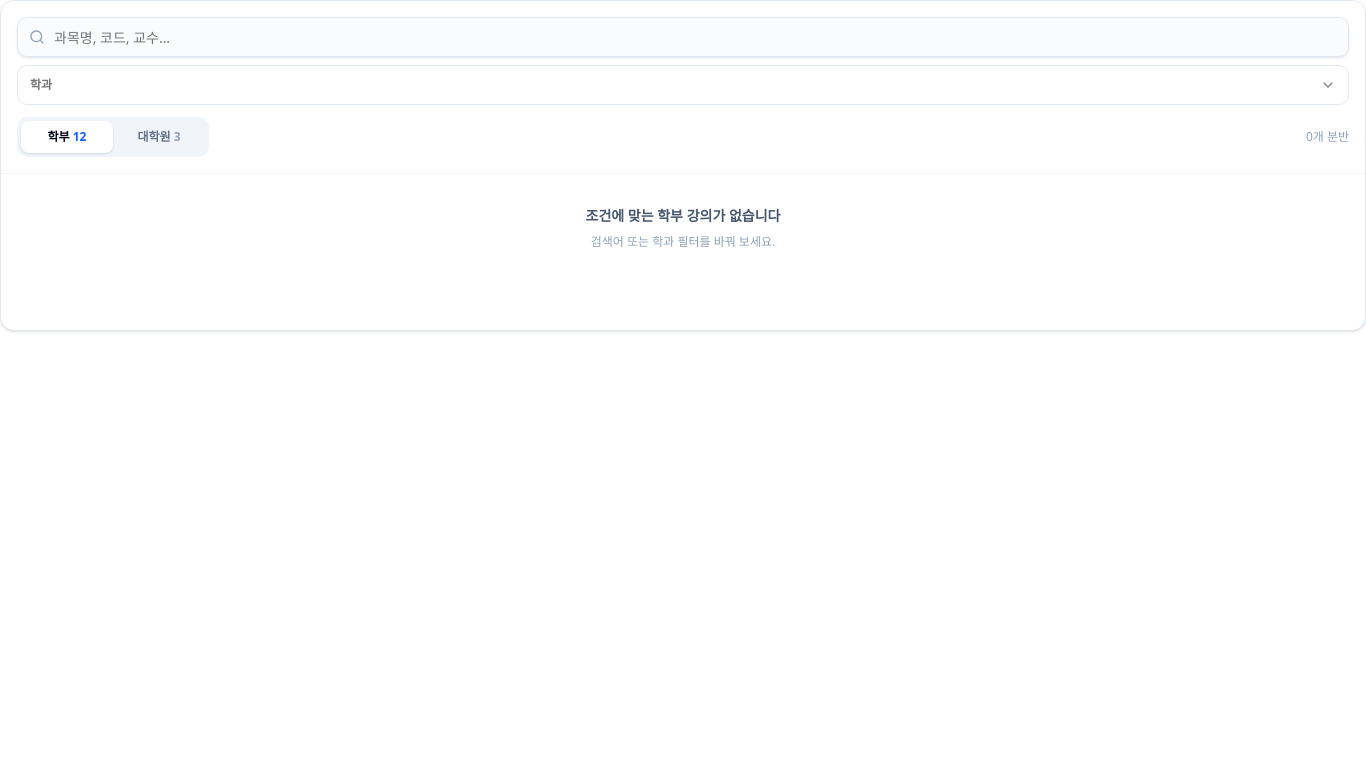
Test: SectionBrowserSidebar department filter › keeps multiple selected departments in one filter
Click the dropdown named "학과 필터" at (41, 84), box 17,65 -> 1349,105
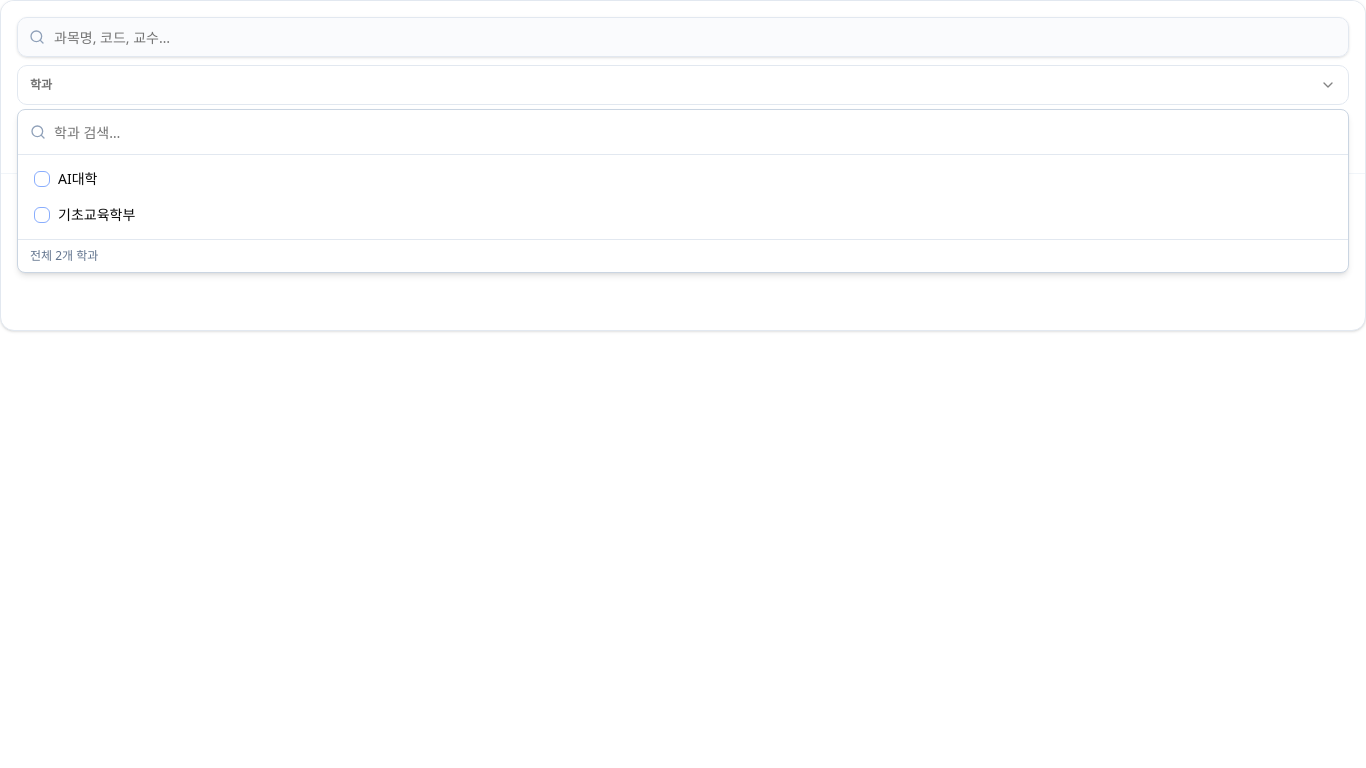
Click the option "AI대학" at (78, 178), box 24,161 -> 1342,197
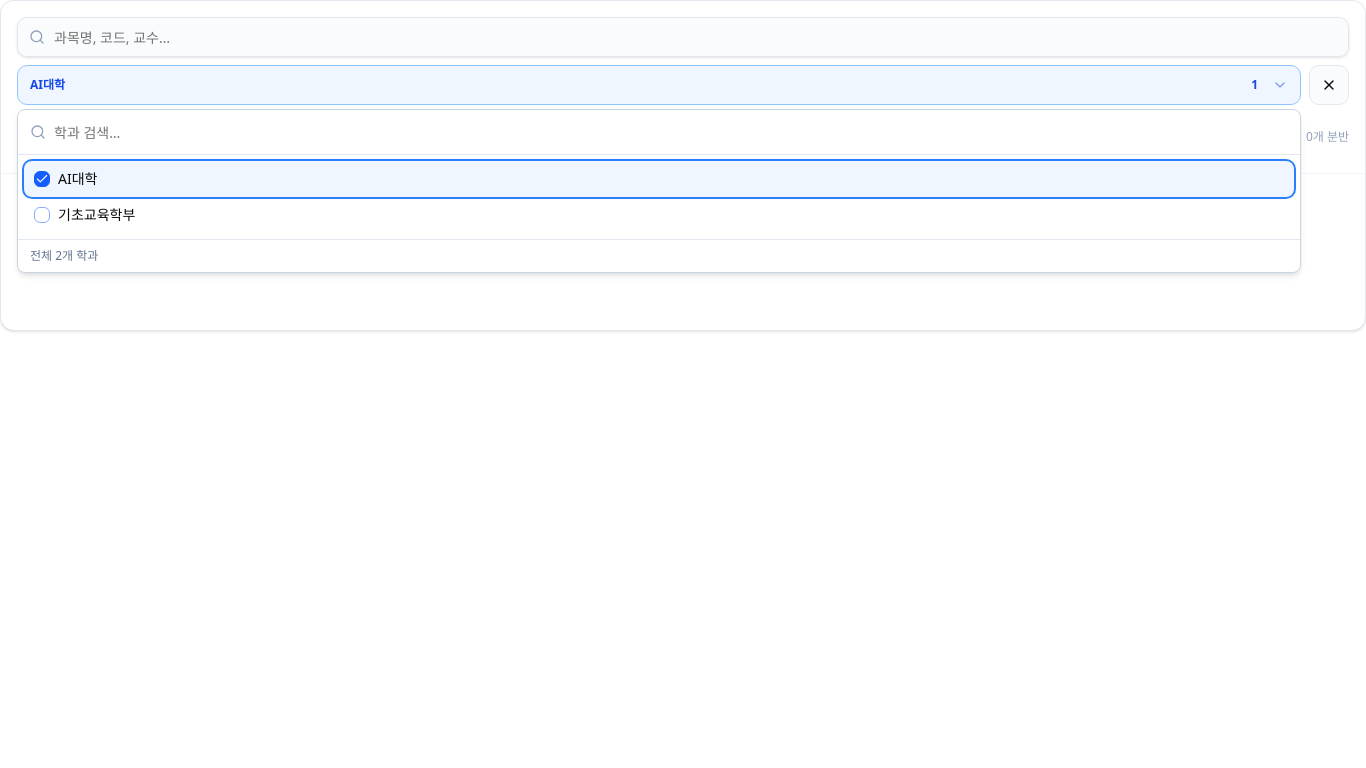
Click the option "기초교육학부" at (97, 214), box 24,197 -> 1294,233
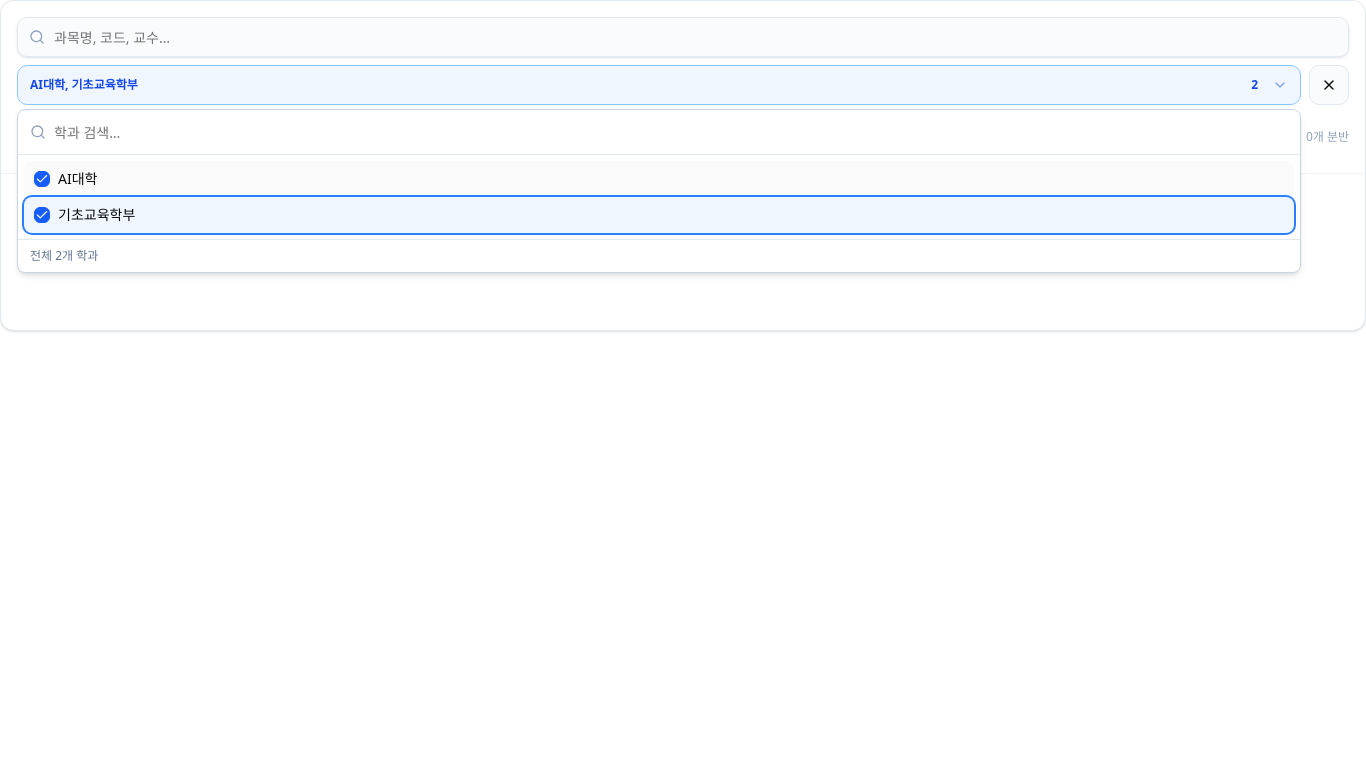
Expected: the dropdown named "학과 필터" shows "2", 17,65 -> 1301,105
